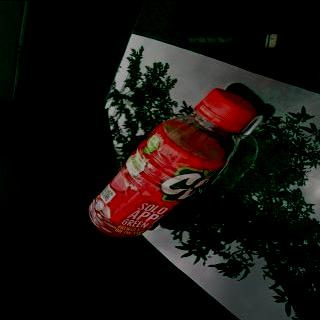bottle: (86, 85, 260, 239)
